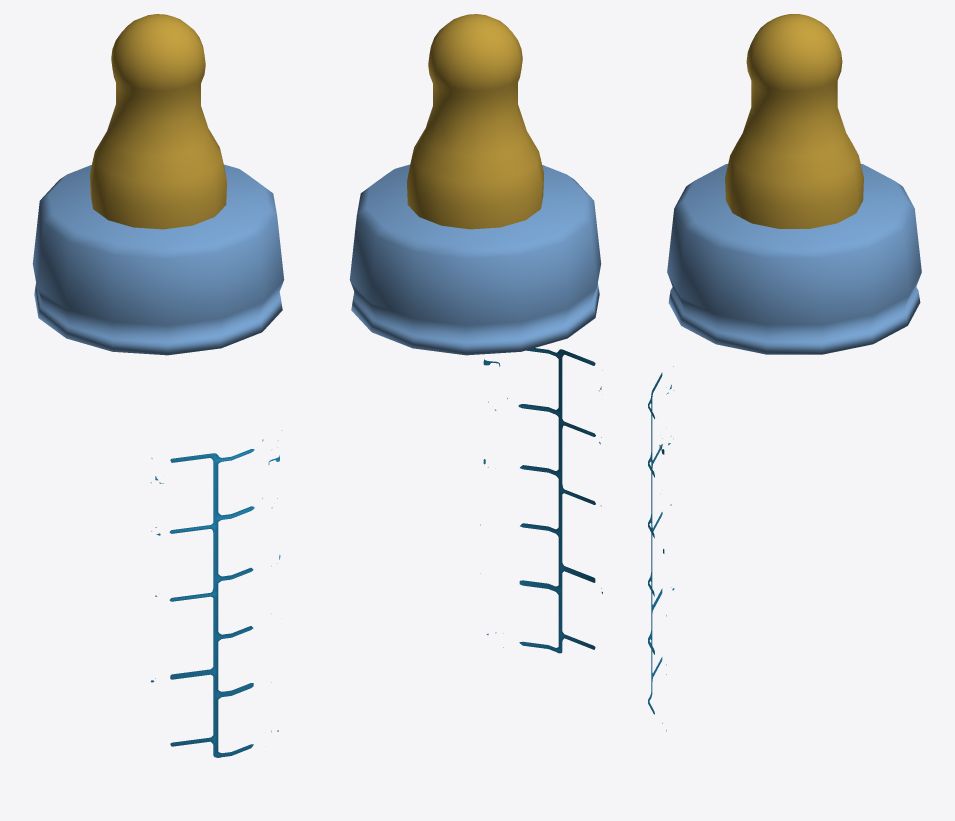
The model's file is Baby_Bottle.obj.
3 views of the same model, side by side, from view 1: azimuth 30°, elevation 25°; view 2: azimuth 150°, elevation 25°; view 3: azimuth 270°, elevation 25° (orthographic).
Visible parts, largest first — view 1: Baby_Bottle; view 2: Baby_Bottle; view 3: Baby_Bottle.
Boxes of the visible parts, x1,y1,x2,y2 form: Baby_Bottle: [32, 14, 284, 757]; Baby_Bottle: [349, 14, 602, 653]; Baby_Bottle: [648, 14, 921, 731].
Size of the model in its own units: 0.0627 by 0.1776 by 0.0643.
